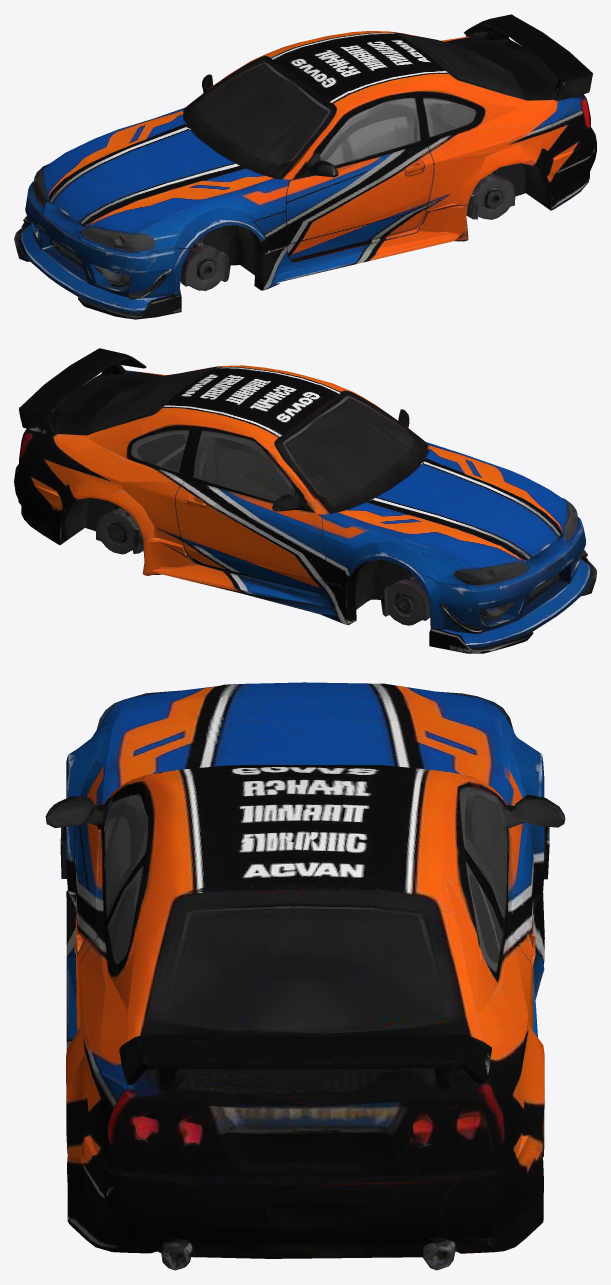
Rendered from skin1.glb.
3 views of the same model, one above another, from view 1: azimuth 30°, elevation 25°; view 2: azimuth 150°, elevation 25°; view 3: azimuth 270°, elevation 25° (orthographic). The views are drawn at different scales.
Bounding box in the file's own units: 1.9 × 0.5484 × 0.8391.
Materials: 1 (1 with a texture image).
